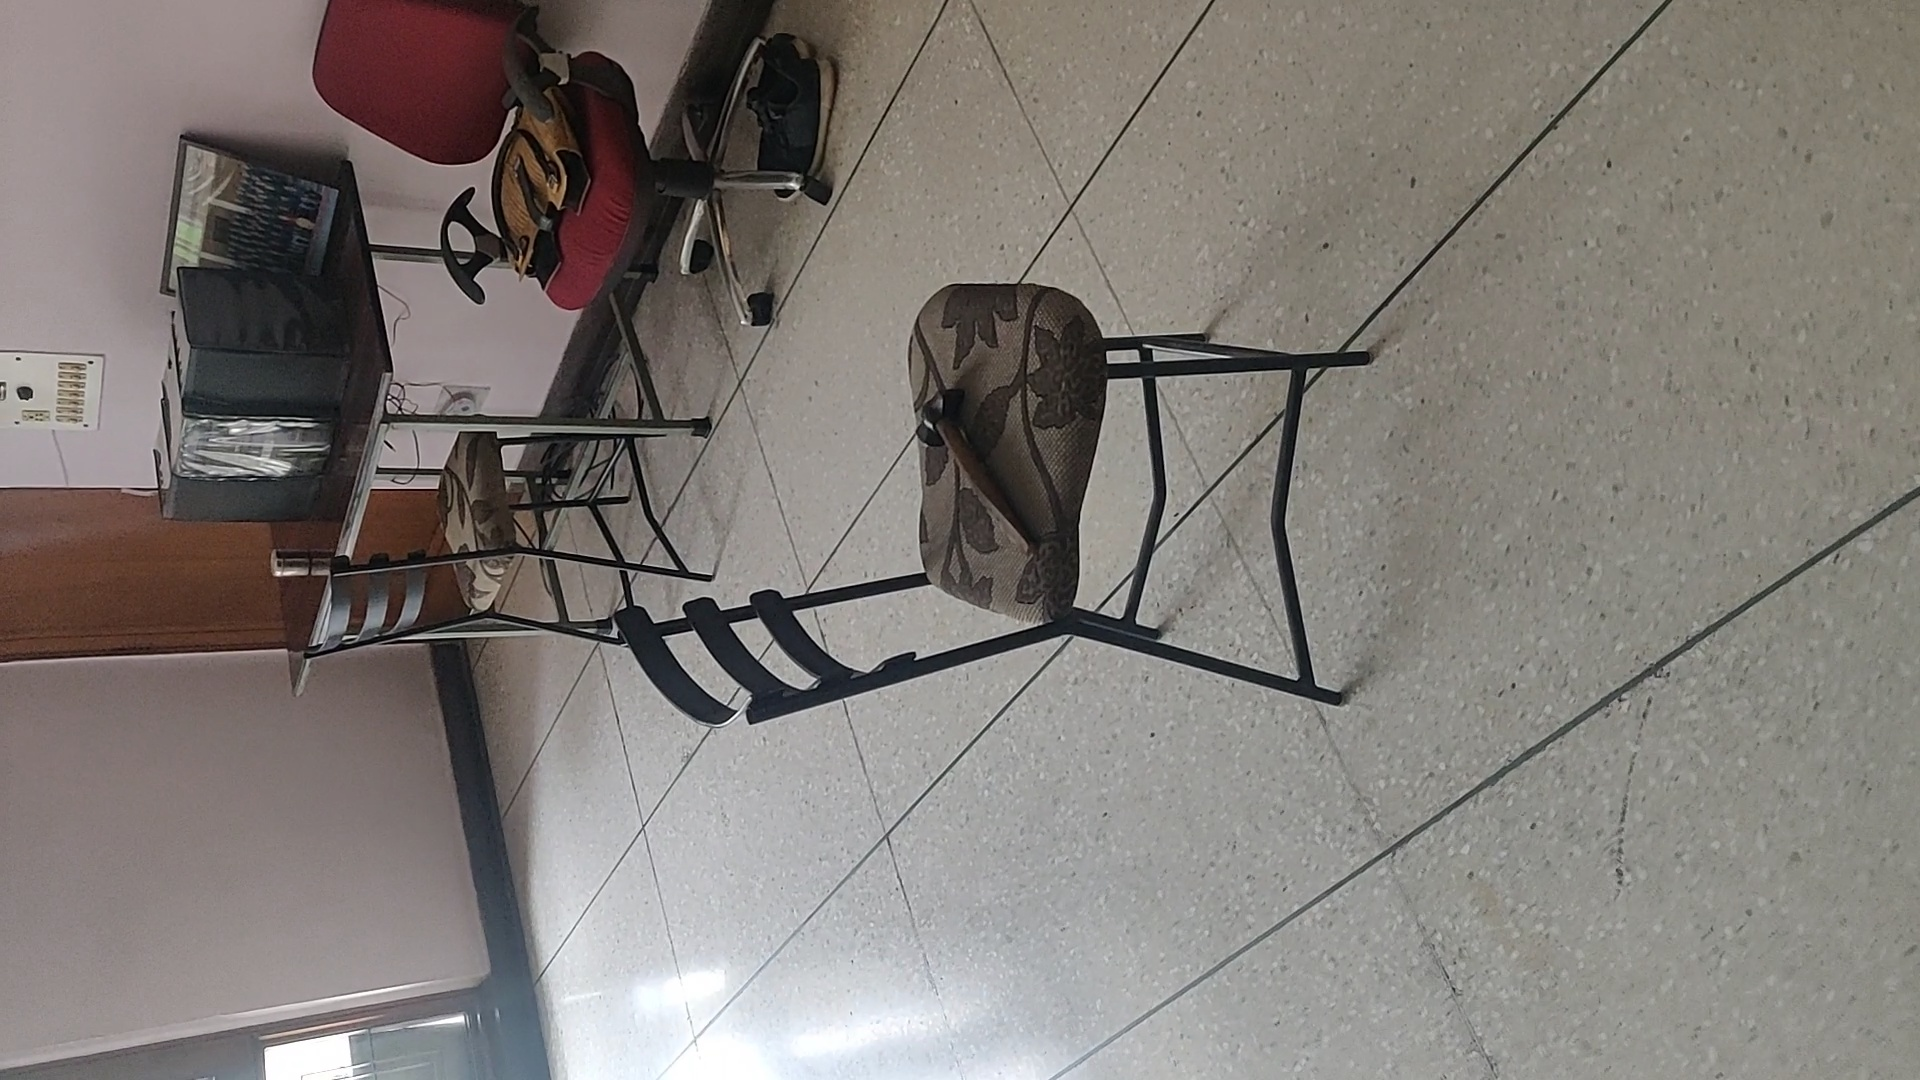hammer: (915, 390, 1033, 554)
